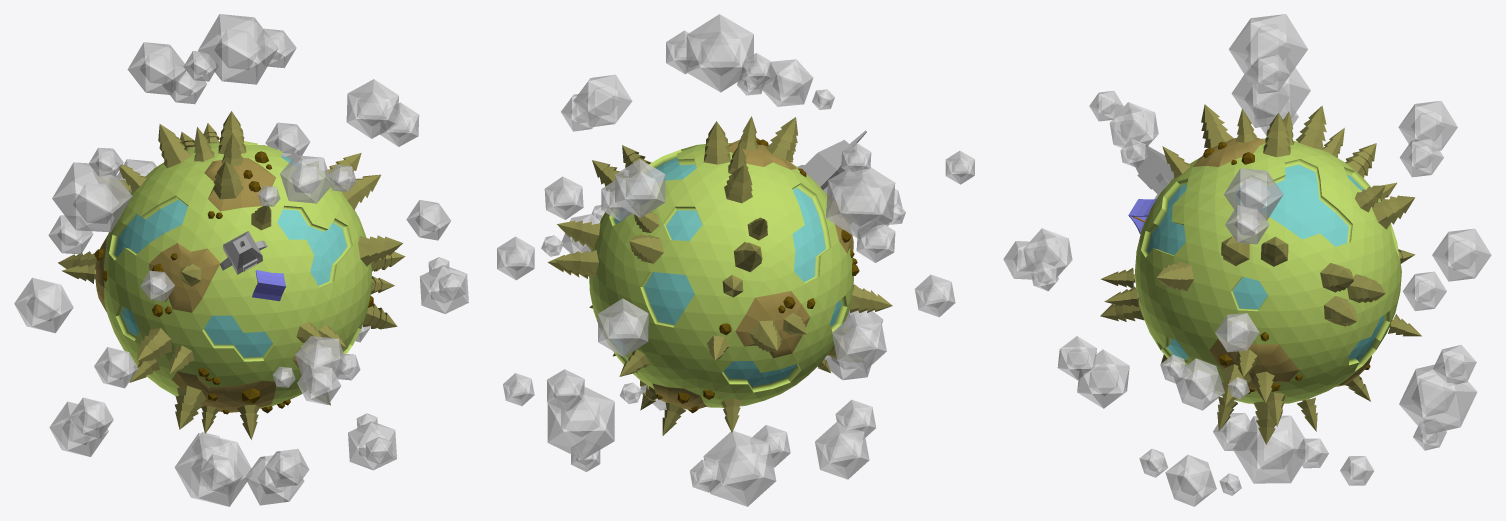
Rendered from planeta para texturizar.fbx.
3 renders of one model, left to right at view 1: azimuth 30°, elevation 25°; view 2: azimuth 150°, elevation 25°; view 3: azimuth 270°, elevation 25°, orthographic.
Visible parts, largest first — view 1: Icosphere, pPlatonic72, pPlatonic36, pasted__pPlatonic36, pPlatonic45, pasted__pPlatonic76, pPlatonic63, pPlatonic51, pPlatonic59, pasted__pPlatonic63, pasted__pPlatonic45, pasted__pPlatonic59 (+32 smaller); view 2: Icosphere, pPlatonic72, pasted__pPlatonic72, pPlatonic36, pasted__pPlatonic36, pasted__pPlatonic76, pasted__pPlatonic63, pPlatonic76, pPlatonic63, pPlatonic45, pPlatonic51, pCube2 (+31 smaller); view 3: Icosphere, pasted__pPlatonic72, pasted__pPlatonic36, pPlatonic36, pPlatonic72, pPlatonic76, pasted__pPlatonic45, pPlatonic45, pPlatonic63, pasted__pPlatonic51, pasted__pPlatonic59, pPlatonic59 (+41 smaller).
Boxes of the visible parts, x1=… form: Icosphere: x1=95, y1=141, x2=371, y2=412; pPlatonic72: x1=48, y1=147, x2=132, y2=254; pPlatonic36: x1=198, y1=14, x2=278, y2=84; pasted__pPlatonic36: x1=174, y1=433, x2=251, y2=506; pPlatonic45: x1=346, y1=79, x2=398, y2=138; pasted__pPlatonic76: x1=14, y1=277, x2=73, y2=333; pPlatonic63: x1=127, y1=42, x2=186, y2=95; pPlatonic51: x1=280, y1=155, x2=332, y2=203; pPlatonic59: x1=295, y1=336, x2=346, y2=383; pasted__pPlatonic63: x1=49, y1=401, x2=108, y2=456; pasted__pPlatonic45: x1=245, y1=455, x2=304, y2=505; pasted__pPlatonic59: x1=419, y1=265, x2=468, y2=313; Icosphere: x1=589, y1=139, x2=853, y2=409; pPlatonic72: x1=826, y1=143, x2=895, y2=262; pasted__pPlatonic72: x1=547, y1=369, x2=614, y2=471; pPlatonic36: x1=686, y1=14, x2=753, y2=92; pasted__pPlatonic36: x1=703, y1=431, x2=776, y2=506; pasted__pPlatonic76: x1=832, y1=313, x2=886, y2=370; pasted__pPlatonic63: x1=815, y1=422, x2=869, y2=479; pPlatonic76: x1=598, y1=298, x2=648, y2=357; pPlatonic63: x1=615, y1=159, x2=665, y2=217; pPlatonic45: x1=573, y1=74, x2=632, y2=127; pPlatonic51: x1=760, y1=59, x2=813, y2=106; pCube2: x1=797, y1=130, x2=866, y2=196; Icosphere: x1=1135, y1=137, x2=1401, y2=403; pasted__pPlatonic72: x1=1399, y1=345, x2=1477, y2=450; pasted__pPlatonic36: x1=1233, y1=415, x2=1305, y2=483; pPlatonic36: x1=1228, y1=14, x2=1307, y2=84; pPlatonic72: x1=1231, y1=67, x2=1310, y2=135; pPlatonic76: x1=1432, y1=228, x2=1491, y2=281; pasted__pPlatonic45: x1=1077, y1=349, x2=1129, y2=408; pPlatonic45: x1=1224, y1=168, x2=1283, y2=220; pPlatonic63: x1=1398, y1=100, x2=1457, y2=151; pasted__pPlatonic51: x1=1165, y1=454, x2=1216, y2=506; pasted__pPlatonic59: x1=1173, y1=358, x2=1224, y2=410; pPlatonic59: x1=1023, y1=228, x2=1072, y2=275.
Bounding box in the file's own units: 10.64 × 12.58 × 11.78.
